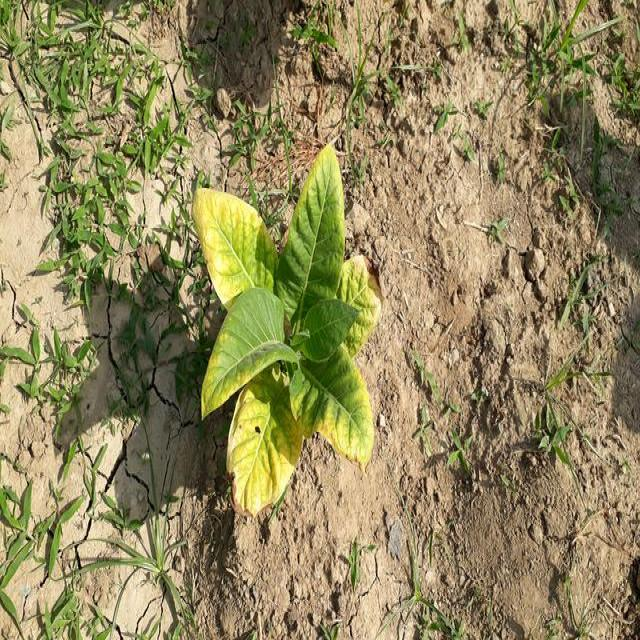crop: (196, 154, 379, 516)
